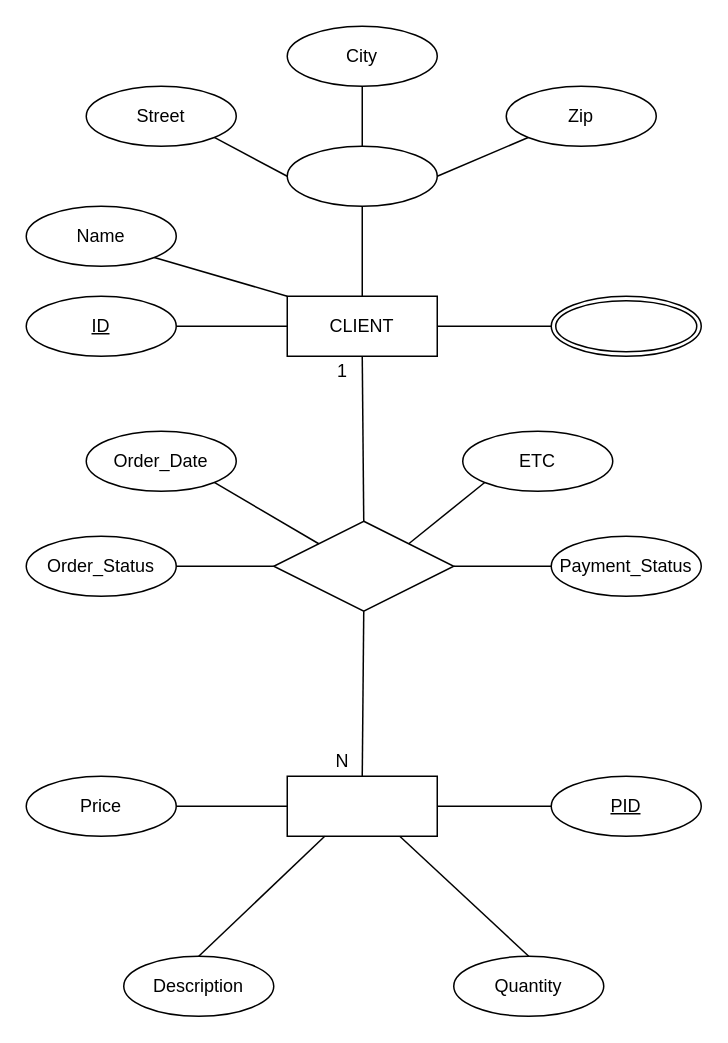
Image size: 728x1043. Some labels were removed from this diagram. Each missing label, with the box of its shape:
Address: (286, 145, 437, 206)
Commission: (272, 520, 454, 611)
Contact_Info: (550, 295, 701, 356)
PRODUCT: (286, 775, 437, 836)
